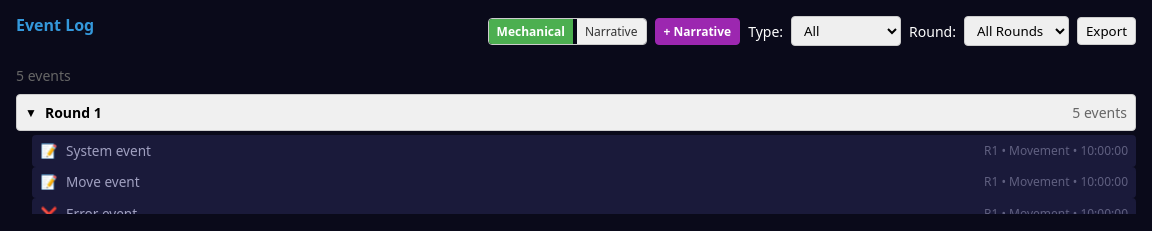
Test: EventLog › event filtering › should show all events when filter is set to all
The width and height of the screenshot is (1152, 231).
Select "Error" in the dropdown labelled "Type:": (846, 31) [791, 16, 901, 46]
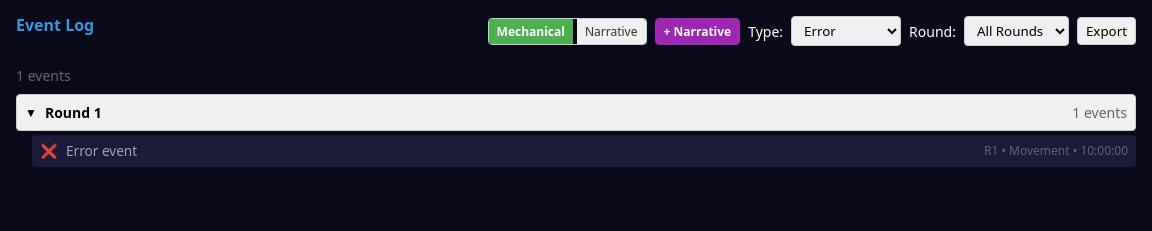
Select "All" in the dropdown labelled "Type:": (846, 31) [791, 16, 901, 46]
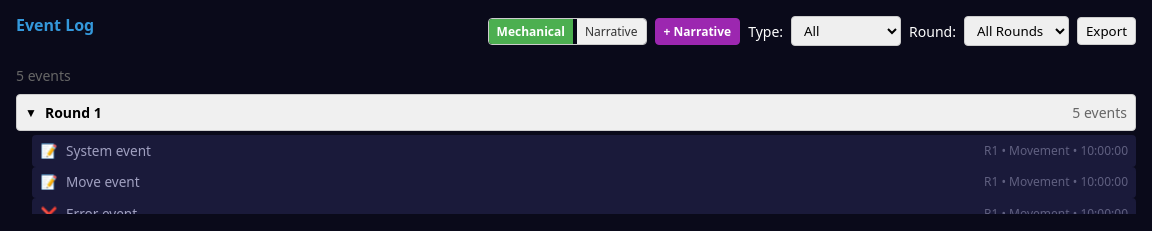
Expected: the text "System event" is shown, [66, 141, 151, 160]
